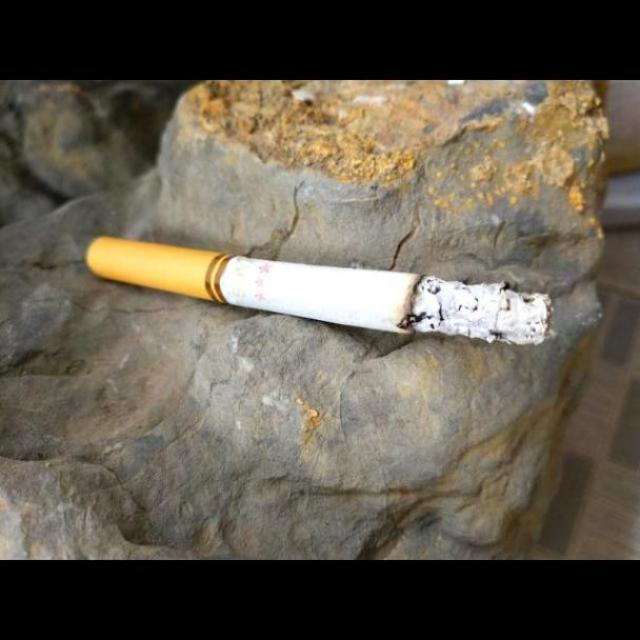rokok: (82, 230, 556, 348)
